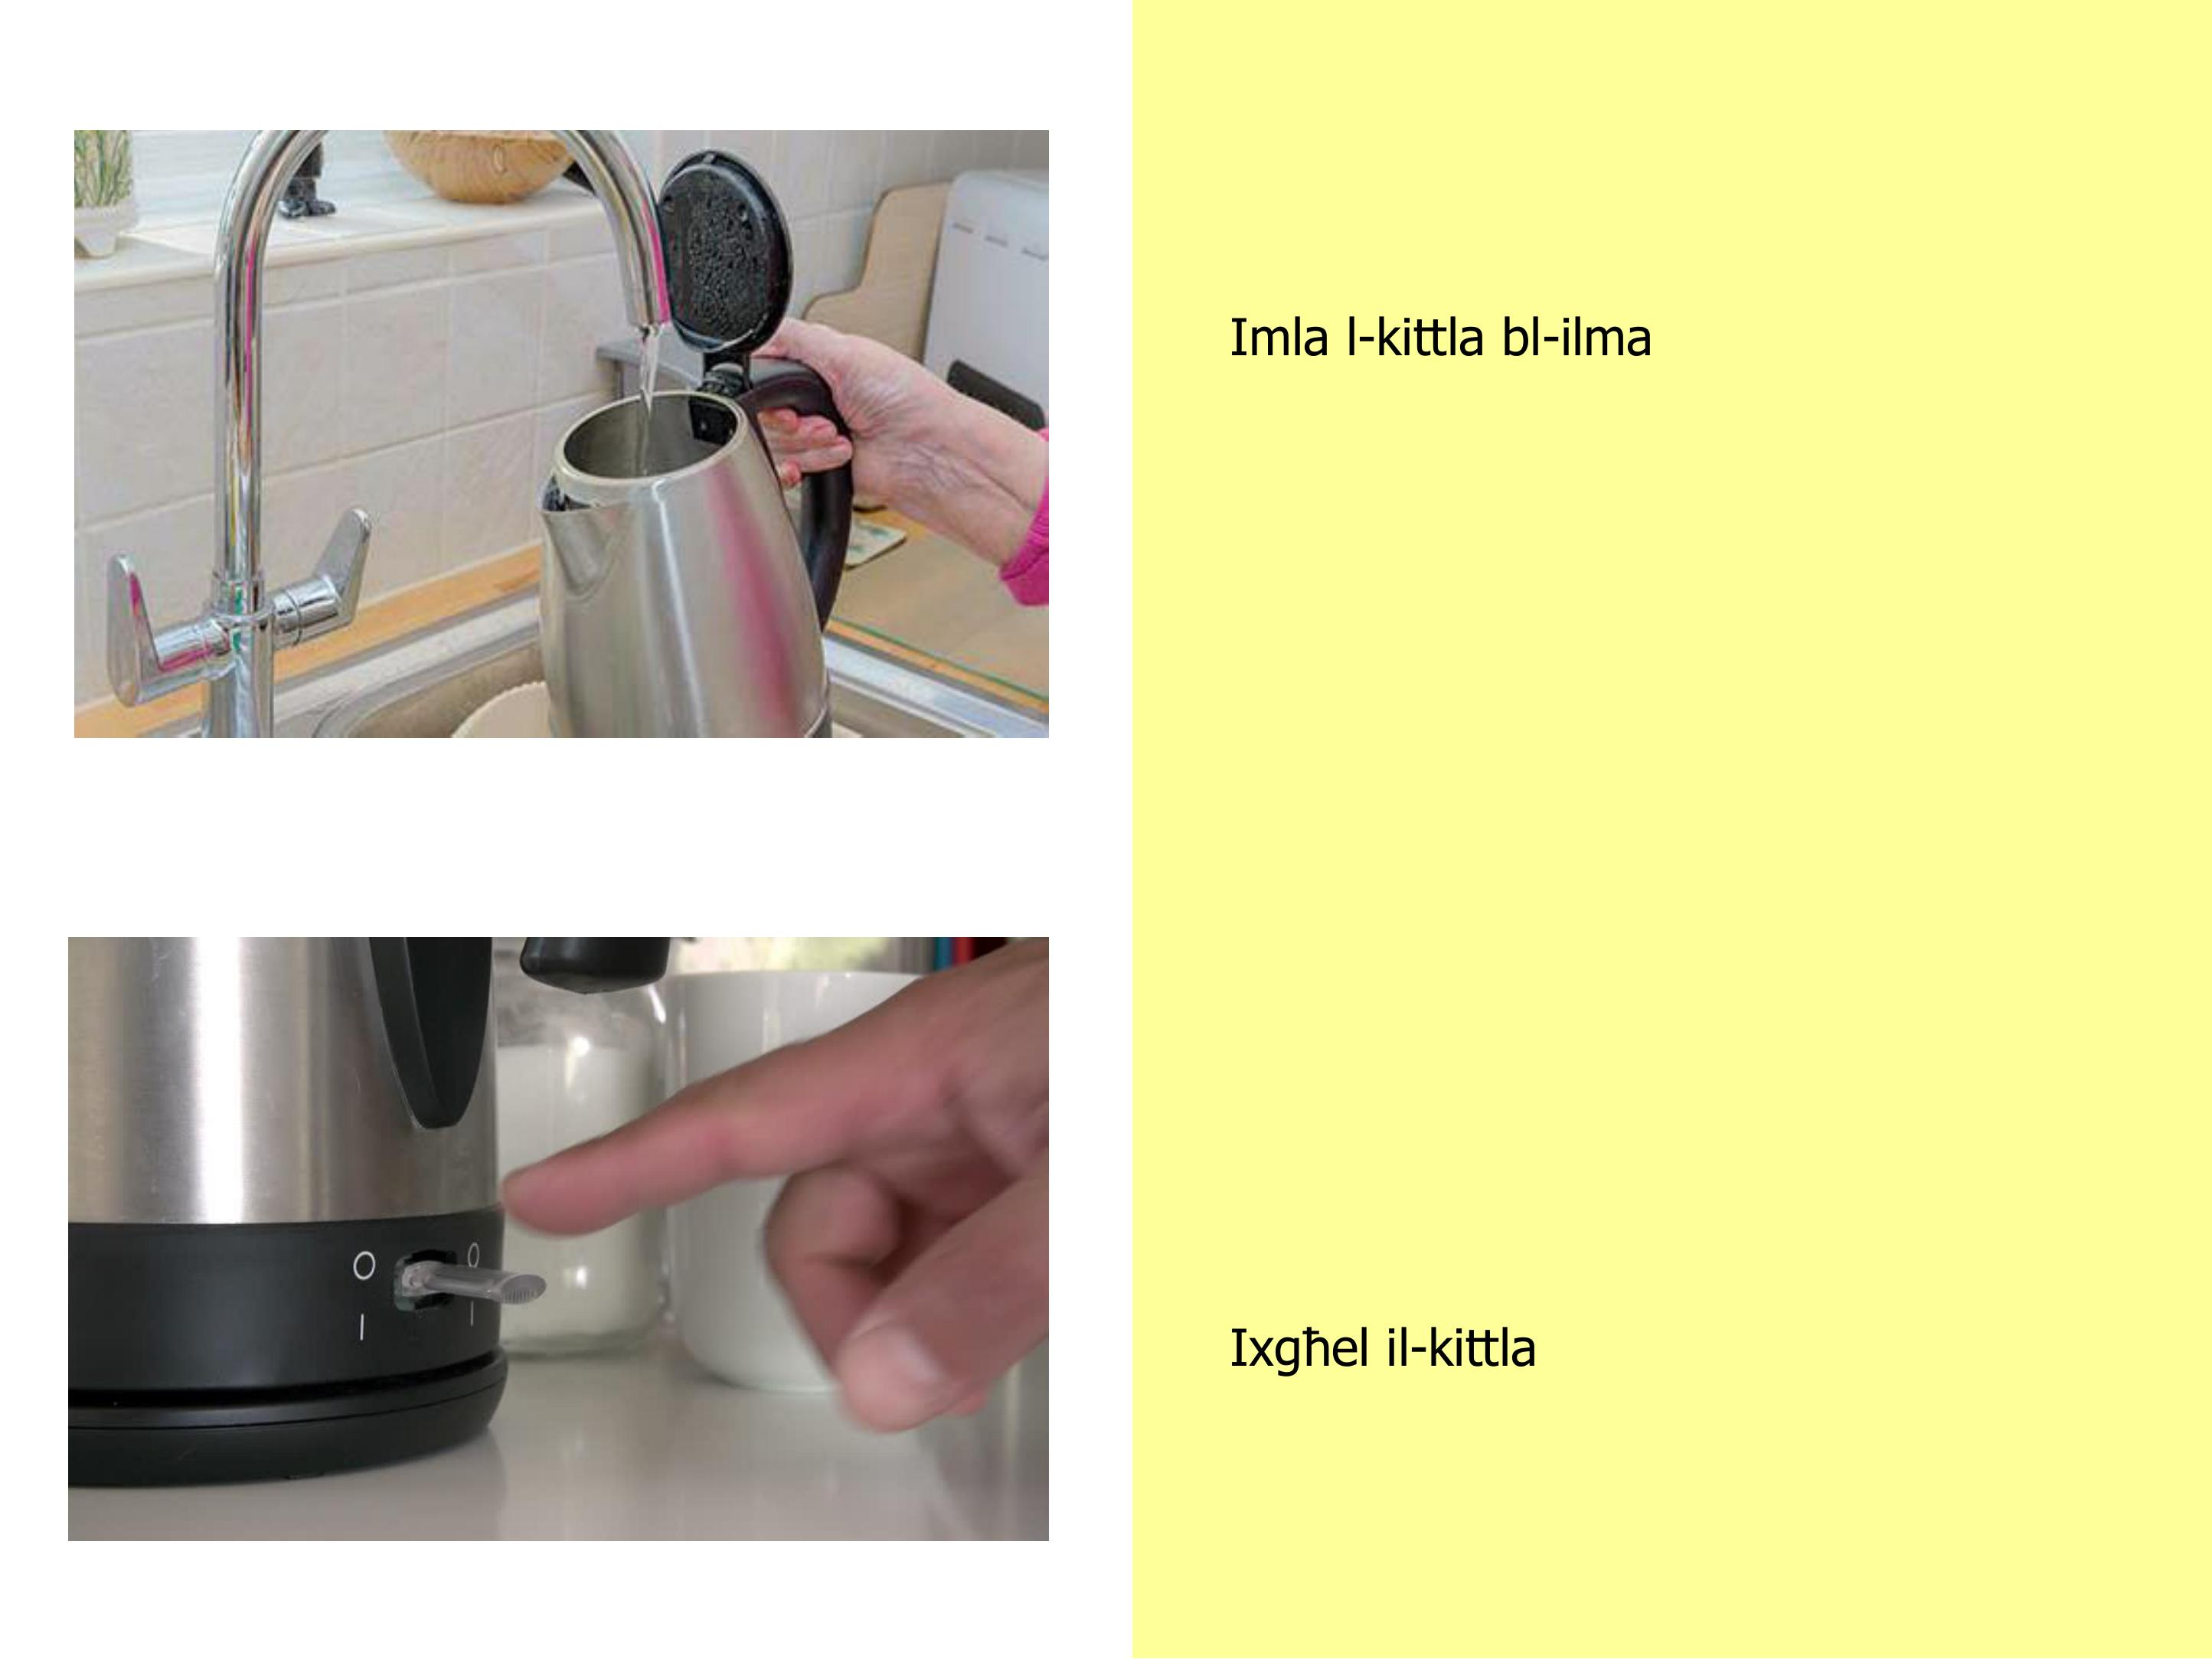text: (1196, 279, 1675, 1413)
